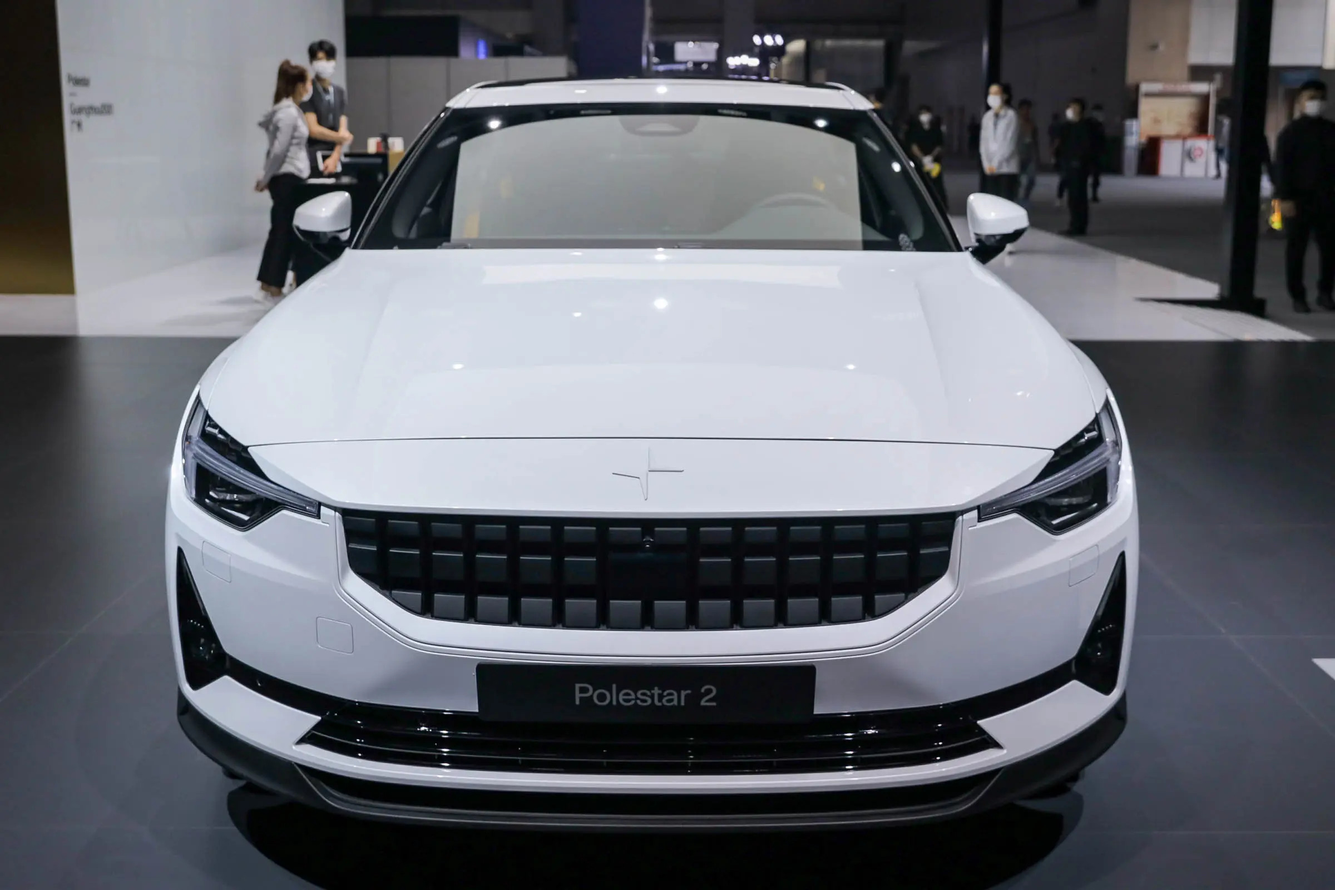Polestar: (613, 448, 683, 500)
